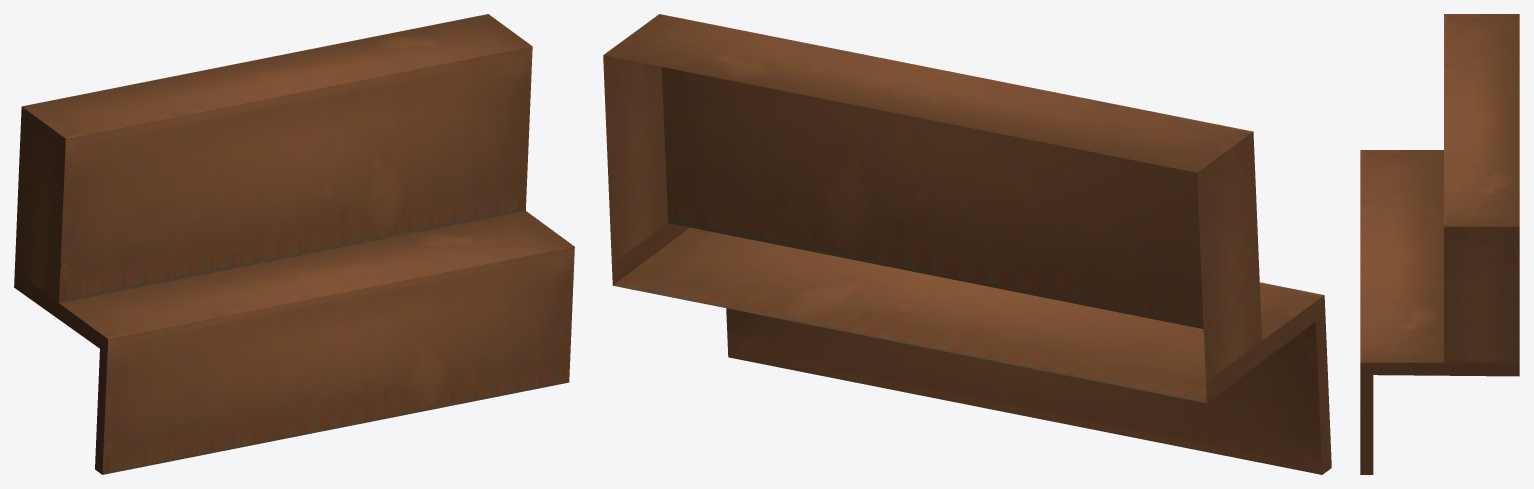
Rendered from chair_02.obj.
3 views of the same model, side by side, from view 1: azimuth 30°, elevation 25°; view 2: azimuth 150°, elevation 25°; view 3: azimuth 270°, elevation 25° (orthographic). The views are drawn at different scales.
Bounding box in the file's own units: 2.48 × 1.58 × 0.8362.
Materials: 1 (1 with a texture image).
